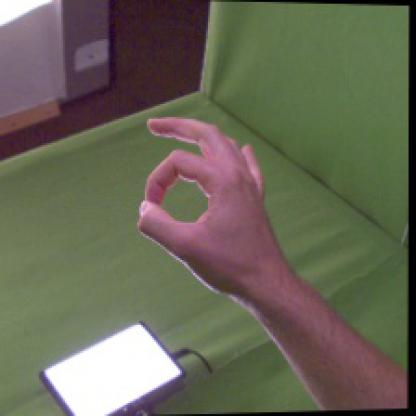Hand: (134, 117, 275, 300)
